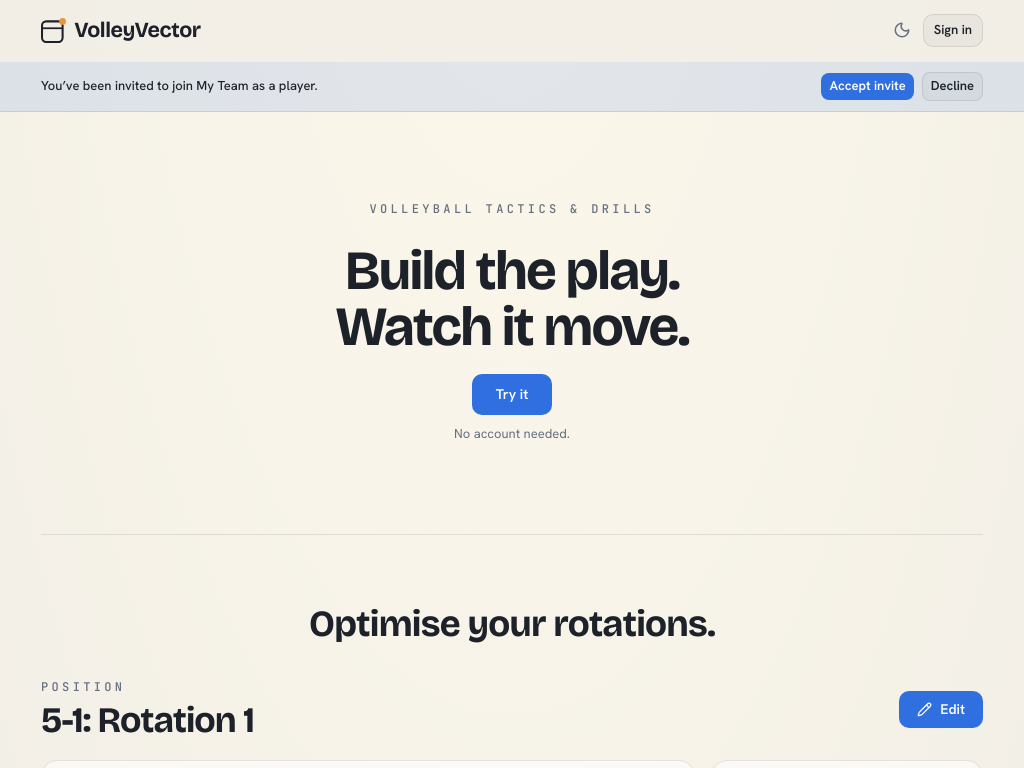
it: App wiring › a logged-out invite link lands on the page, then accepts in the shared surface
Expected: the heading "Build the play.Watch it move." is shown, [335, 243, 689, 356]
Click the button "Accept invite".
click(868, 86)  # box [821, 73, 914, 100]
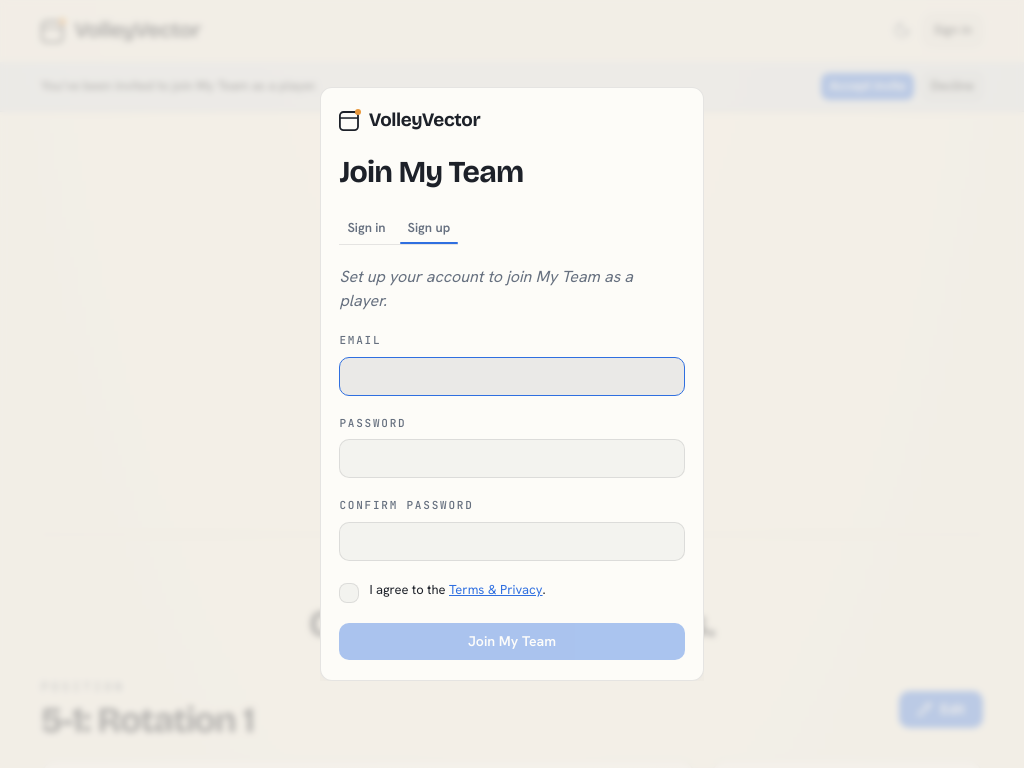
Expected: the text "Set up your account to join My Team as a player." is shown, [339, 265, 685, 313]
